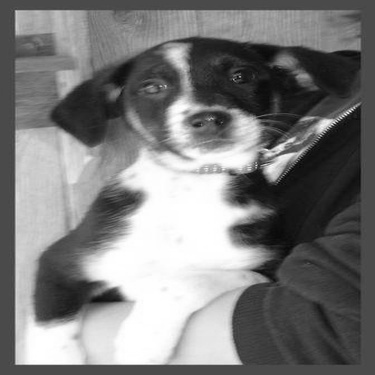dog: (18, 24, 357, 364)
